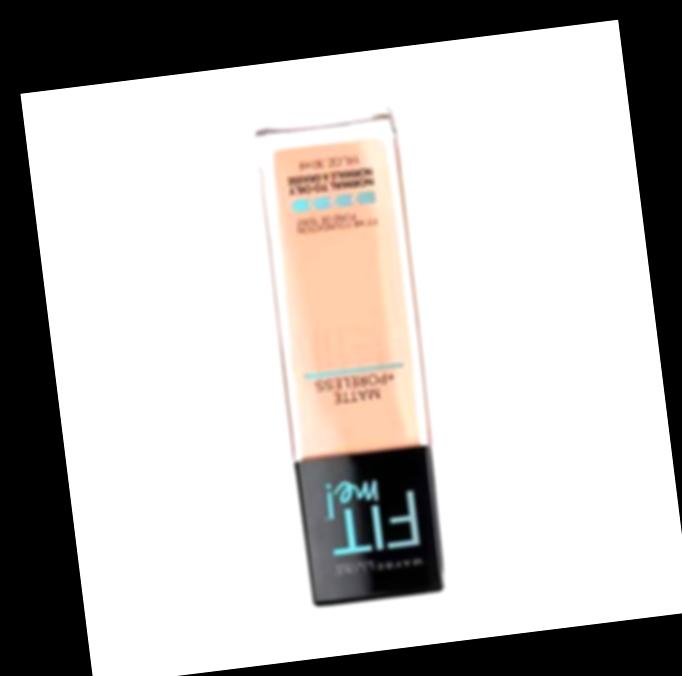cosmetic: (250, 104, 446, 608)
